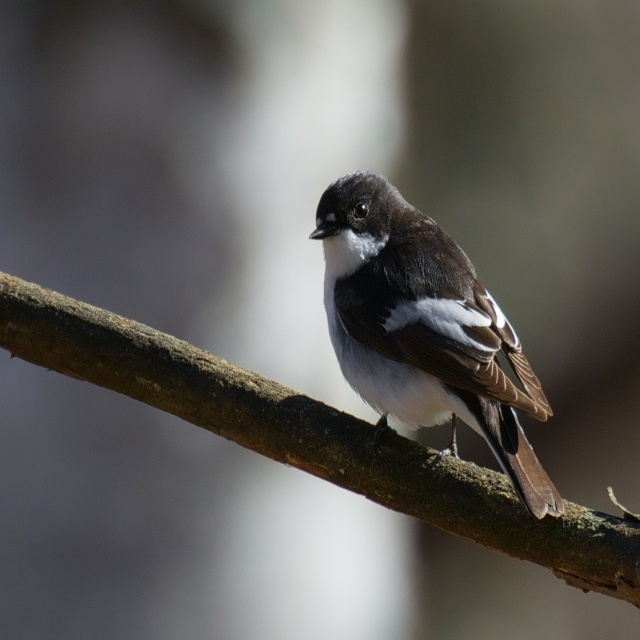Sparrow: (306, 170, 559, 527)
